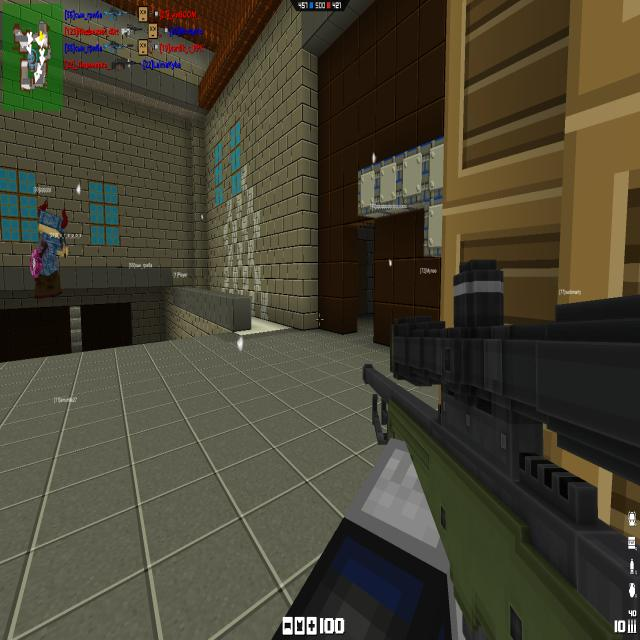player: (30, 197, 70, 291)
